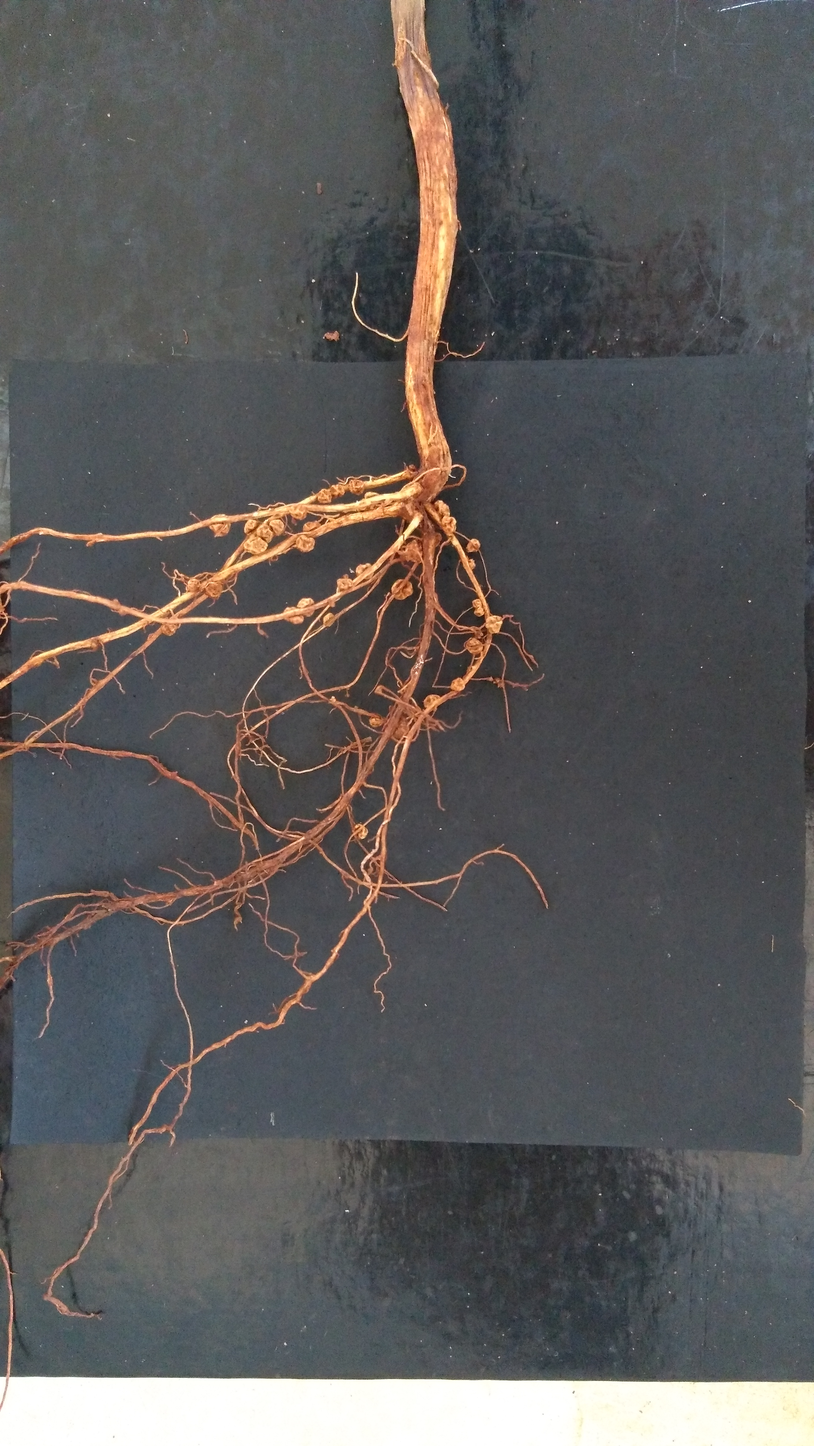nodule: (208, 514, 231, 537), (400, 482, 424, 502), (405, 539, 423, 562), (243, 537, 267, 554), (392, 580, 413, 599), (393, 716, 409, 739), (204, 581, 223, 600), (433, 499, 450, 520), (283, 607, 304, 624), (256, 524, 274, 543), (297, 598, 315, 617), (296, 535, 315, 552), (289, 503, 307, 520), (485, 616, 502, 633), (303, 521, 321, 537), (356, 563, 374, 579), (244, 519, 263, 534), (465, 638, 484, 653), (337, 574, 353, 591), (442, 515, 456, 534), (269, 519, 284, 536), (349, 479, 364, 495), (424, 694, 440, 708), (330, 484, 345, 498), (317, 489, 332, 503), (369, 714, 384, 728), (354, 824, 368, 839), (450, 678, 466, 691), (161, 623, 177, 636), (472, 599, 484, 616), (466, 539, 480, 553), (186, 579, 201, 591), (323, 612, 334, 626), (462, 559, 475, 570), (470, 626, 483, 637), (111, 598, 120, 612), (434, 532, 442, 547), (365, 491, 378, 499), (91, 638, 101, 648), (328, 597, 336, 607), (375, 685, 383, 694), (86, 539, 96, 546), (408, 464, 416, 471)
